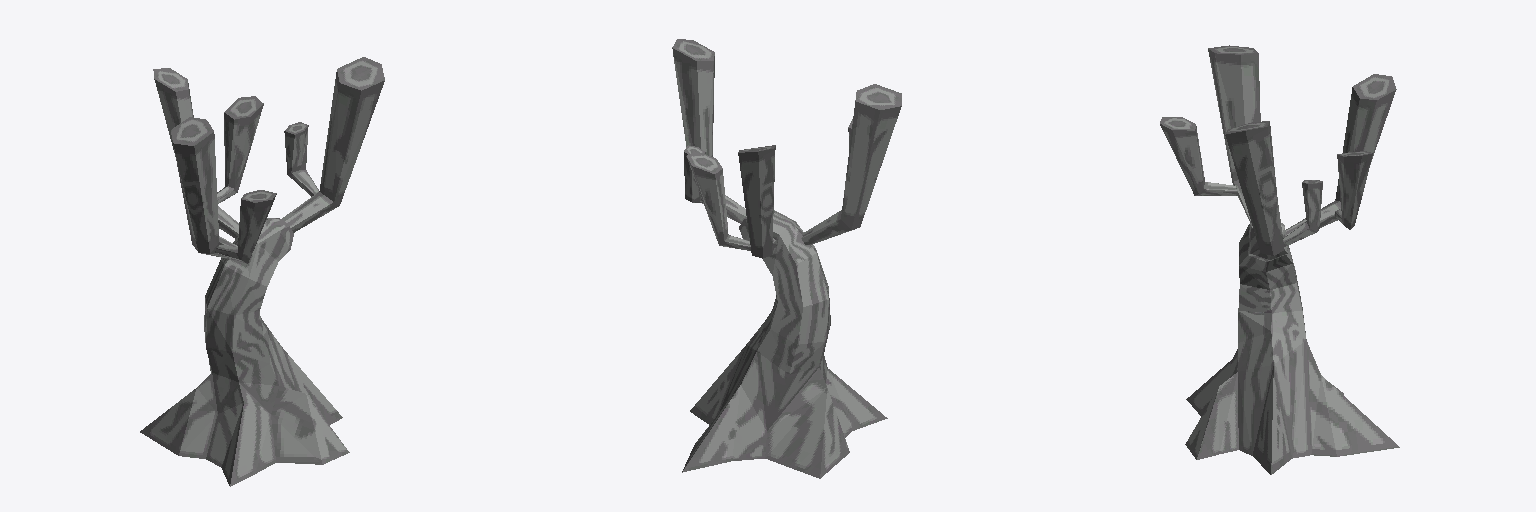
3 views of the same model, side by side, from view 1: azimuth 30°, elevation 25°; view 2: azimuth 150°, elevation 25°; view 3: azimuth 270°, elevation 25° (orthographic).
Visible parts, largest first — view 1: Mesh_0031; view 2: Mesh_0031; view 3: Mesh_0031.
Part boxes in pixels (x1,y1,x2,y2): Mesh_0031: (140, 57, 384, 486); Mesh_0031: (672, 39, 901, 478); Mesh_0031: (1160, 45, 1399, 474).
Bounding box in the file's own units: 2.43 × 3.84 × 2.34.
1 materials, 1 textured.